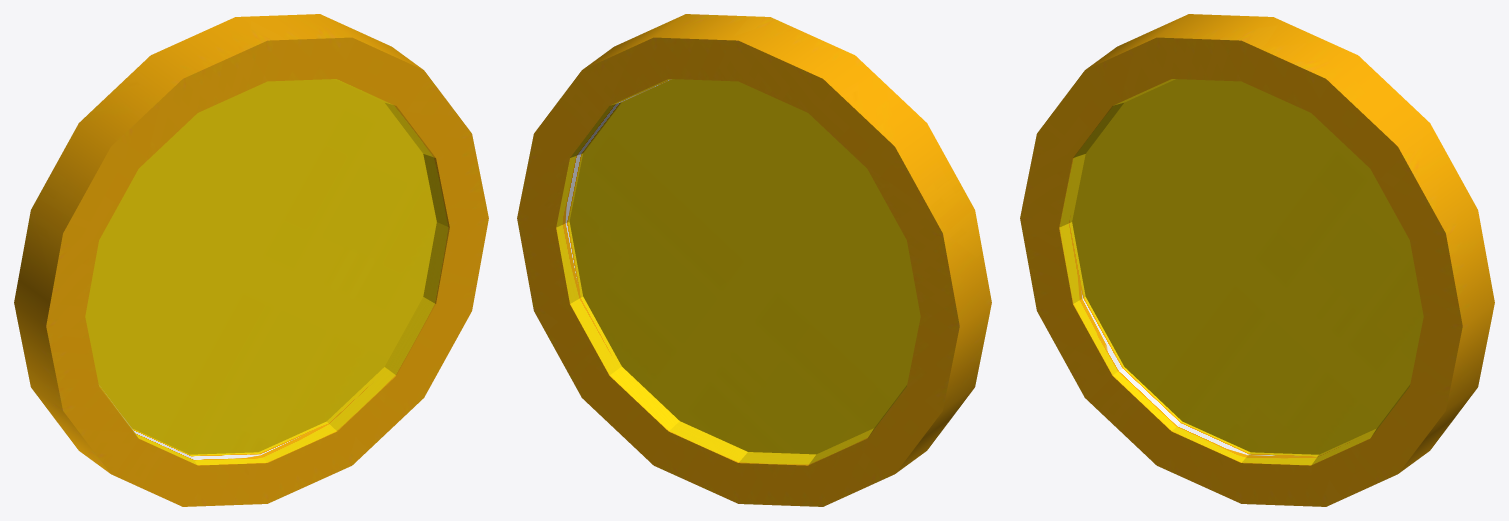
File: Coin.fbx
The picture shows the model from 3 angles, left to right: view 1: azimuth 30°, elevation 25°; view 2: azimuth 150°, elevation 25°; view 3: azimuth 330°, elevation 25°; orthographic projection.
Visible parts, largest first — view 1: CoinGold; view 2: CoinGold; view 3: CoinGold.
Part boxes in pixels (x1=…): CoinGold: x1=14, y1=14, x2=488, y2=506; CoinGold: x1=517, y1=14, x2=991, y2=506; CoinGold: x1=1020, y1=14, x2=1494, y2=506.
Size of the model in its own units: 31.56 by 31.56 by 3.97.
